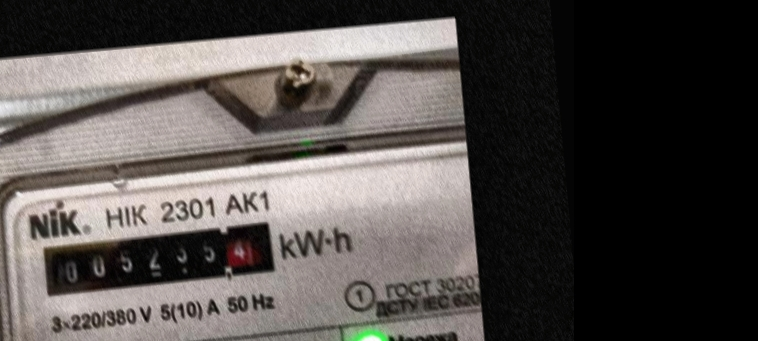0: (62, 257, 79, 284), (89, 253, 106, 278)
2: (144, 244, 162, 271)
3: (170, 238, 189, 265)
4: (228, 233, 249, 263)
5: (198, 235, 217, 264), (117, 247, 133, 273)
screen: (28, 211, 284, 305)
